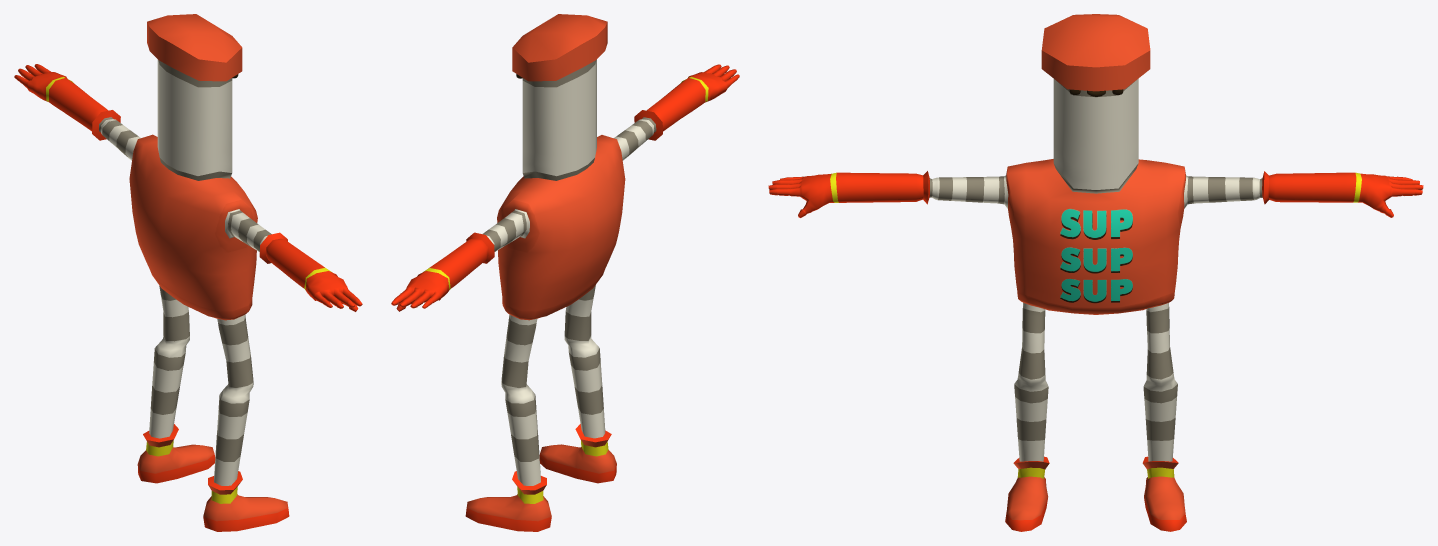
The model's file is Supersup.glb.
The picture shows the model from 3 angles, left to right: view 1: azimuth 30°, elevation 25°; view 2: azimuth 150°, elevation 25°; view 3: azimuth 270°, elevation 25°; orthographic projection.
Parts seen in each view (by area): view 1: _100Avatars_123_SUPERSUP; view 2: _100Avatars_123_SUPERSUP; view 3: _100Avatars_123_SUPERSUP.
Part boxes in pixels (left/top/right/bottom): _100Avatars_123_SUPERSUP: left=14, top=14, right=362, bottom=531; _100Avatars_123_SUPERSUP: left=391, top=14, right=739, bottom=531; _100Avatars_123_SUPERSUP: left=768, top=14, right=1423, bottom=531.
Size of the model in its own units: 1.05 by 4.63 by 5.74.
Materials: 1 (1 with a texture image).
